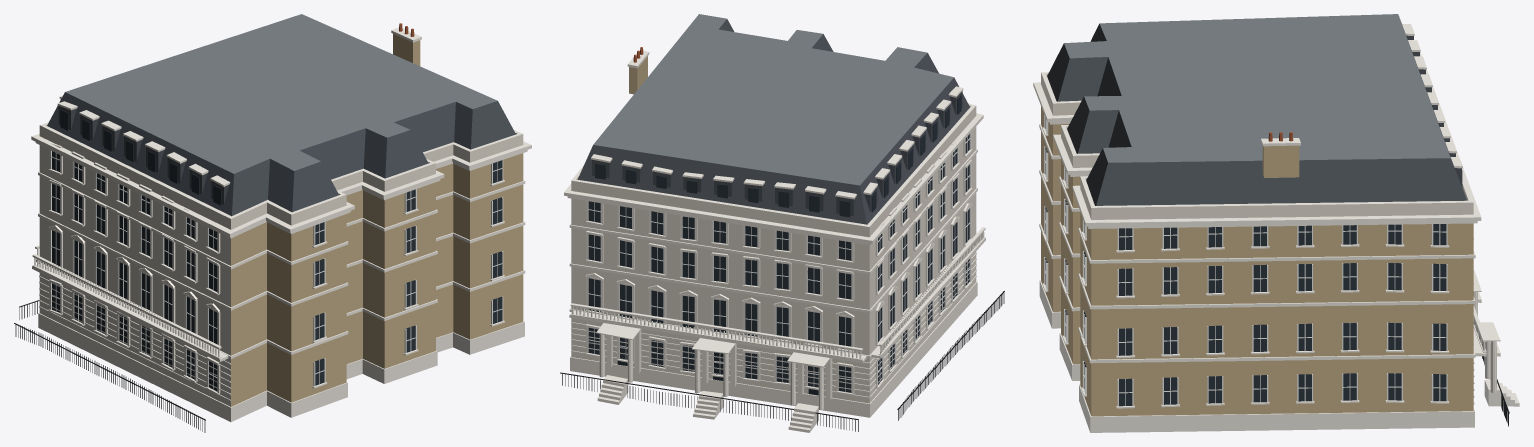
Rendered from more_house.glb.
The picture shows the model from 3 angles, left to right: view 1: azimuth 30°, elevation 25°; view 2: azimuth 150°, elevation 25°; view 3: azimuth 270°, elevation 25°; orthographic projection. The views are drawn at different scales.
Size of the model in its own units: 32.09 by 23.03 by 32.76.
